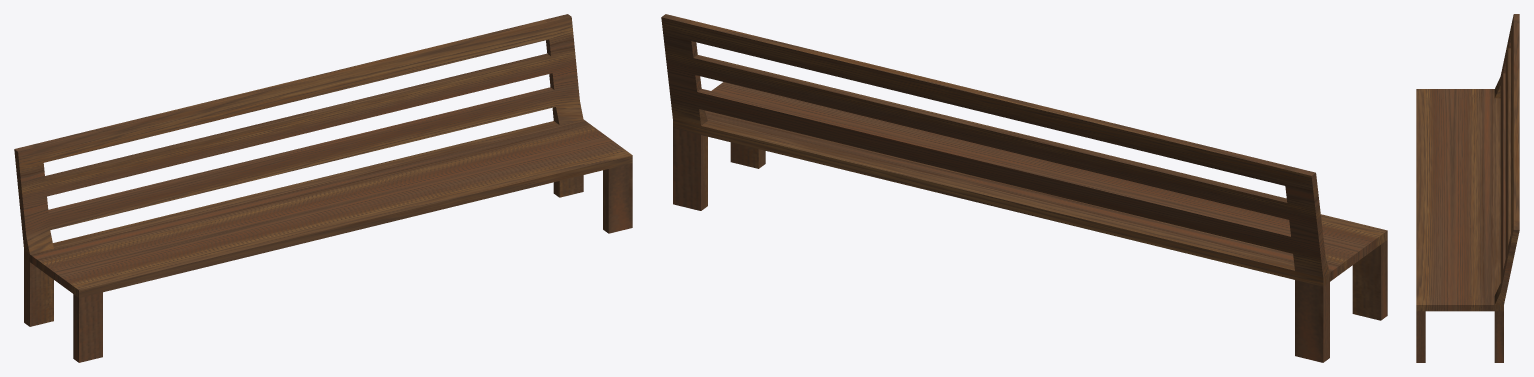
Rendered from Bench.fbx.
3 renders of one model, left to right at view 1: azimuth 30°, elevation 25°; view 2: azimuth 150°, elevation 25°; view 3: azimuth 270°, elevation 25°, orthographic. The views are drawn at different scales.
Visible parts, largest first — view 1: Bench; view 2: Bench; view 3: Bench.
Boxes of the visible parts, x1,y1,x2,y2 form: Bench: [14, 14, 632, 362]; Bench: [661, 14, 1387, 362]; Bench: [1416, 14, 1519, 362].
Bounding box in the file's own units: 3.91 × 1.12 × 0.7936.
